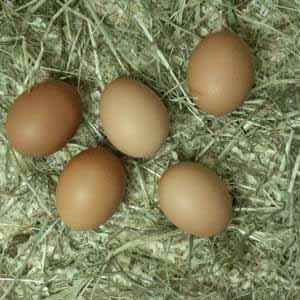egg: (53, 147, 126, 231), (4, 81, 81, 159), (99, 78, 171, 159), (157, 161, 232, 236), (187, 32, 253, 117)
